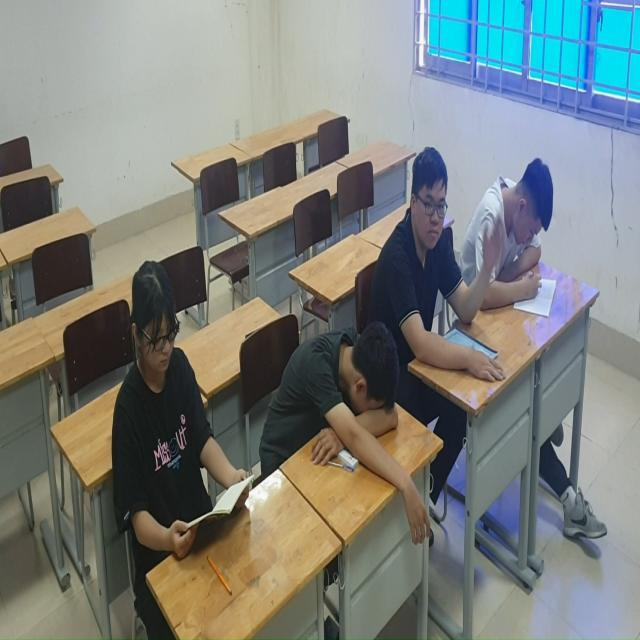raise_hand: (388, 144, 504, 405)
read: (110, 253, 258, 582), (471, 154, 563, 340)
sleep: (271, 312, 433, 551)
